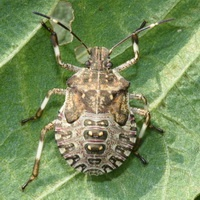insect: (21, 12, 173, 189), (109, 37, 134, 69)
